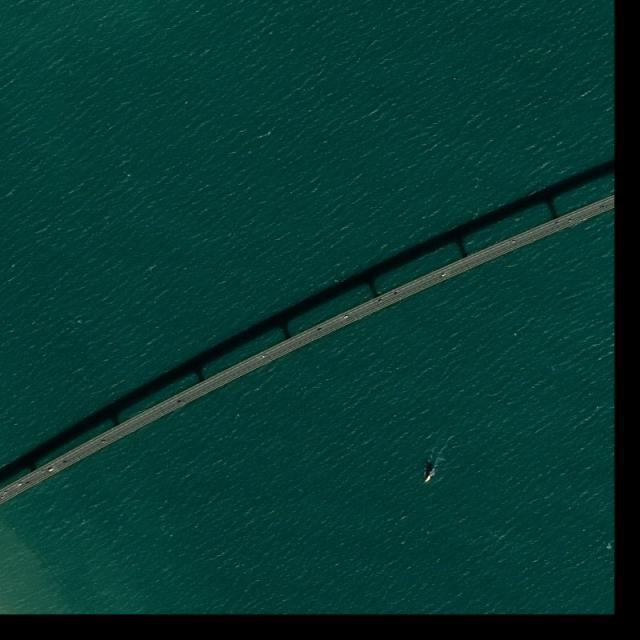ship: (423, 474, 433, 485)
